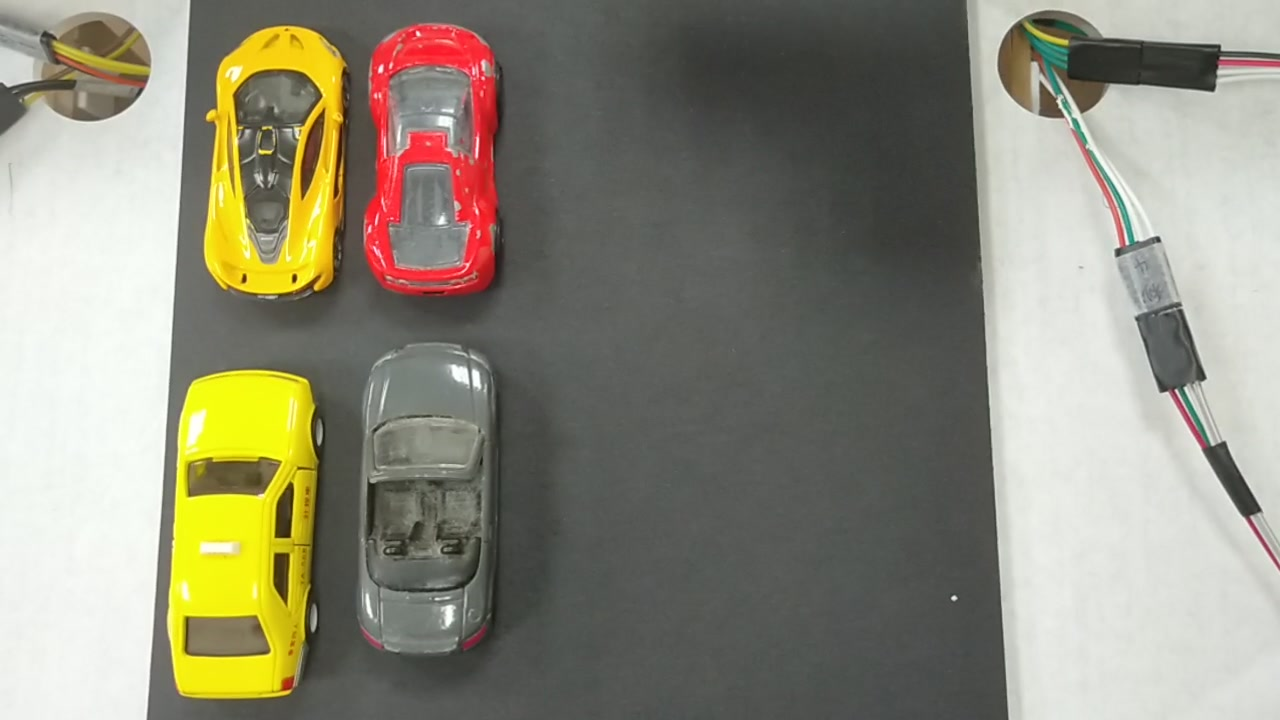car: (164, 368, 326, 699), (359, 341, 499, 656), (205, 28, 348, 291), (375, 23, 497, 287)
